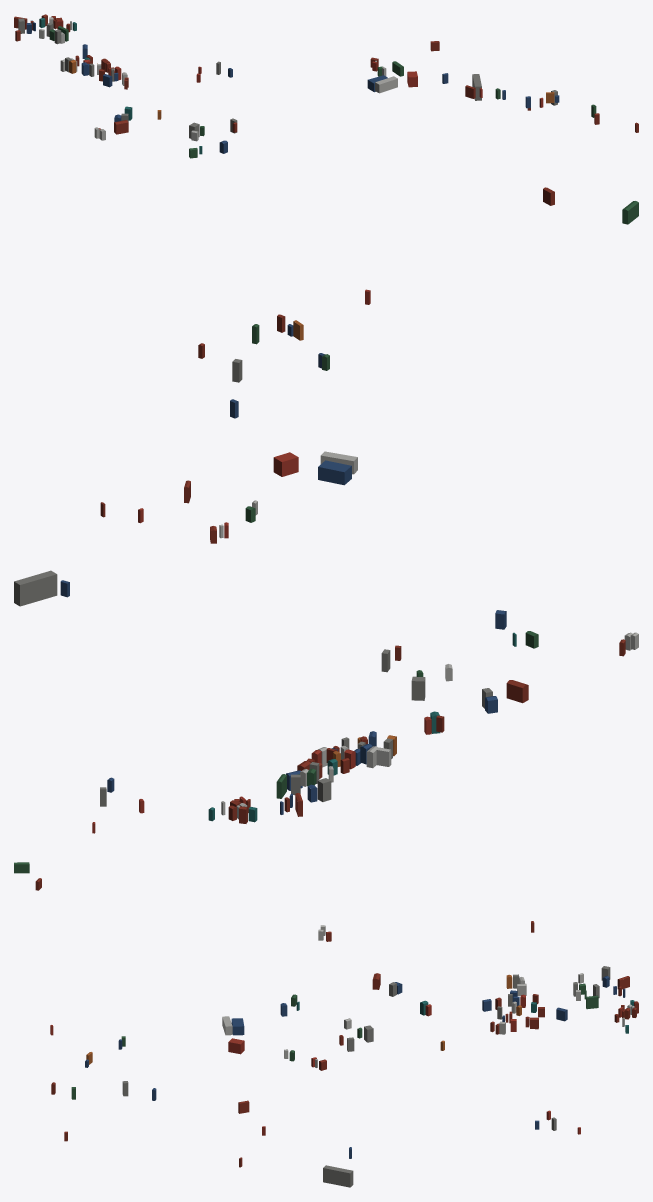
Rendered from near-15-27358-14861.ebd118e9.glb.
The picture shows the model from 3 angles, top to bottom: view 1: azimuth 30°, elevation 25°; view 2: azimuth 150°, elevation 25°; view 3: azimuth 270°, elevation 25°; orthographic projection. The views are drawn at different scales.
Size of the model in its own units: 884 by 479 by 1140.
